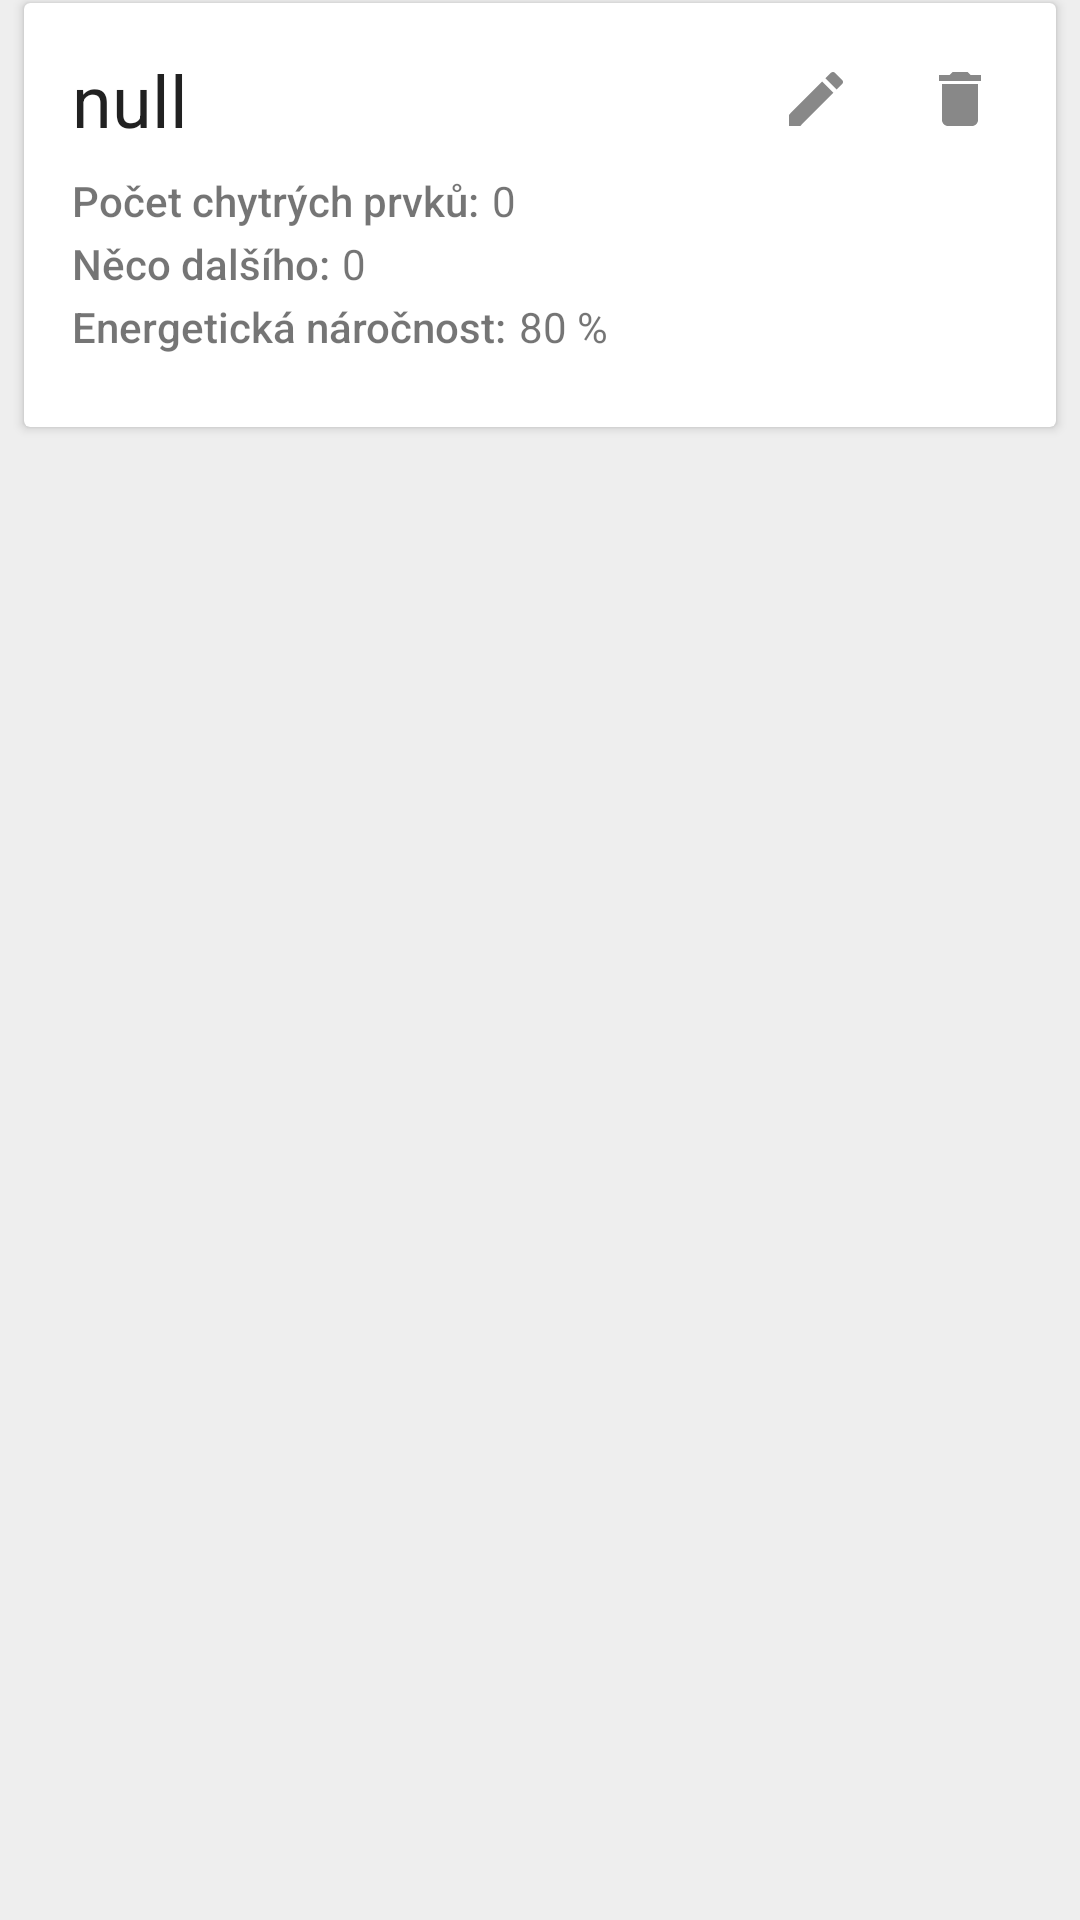

Locate icon controls on the screen. Image size 1080px×1920px, boxes as BBox(x1, y1, x2, y2).
edit: BBox(789, 72, 843, 126)
